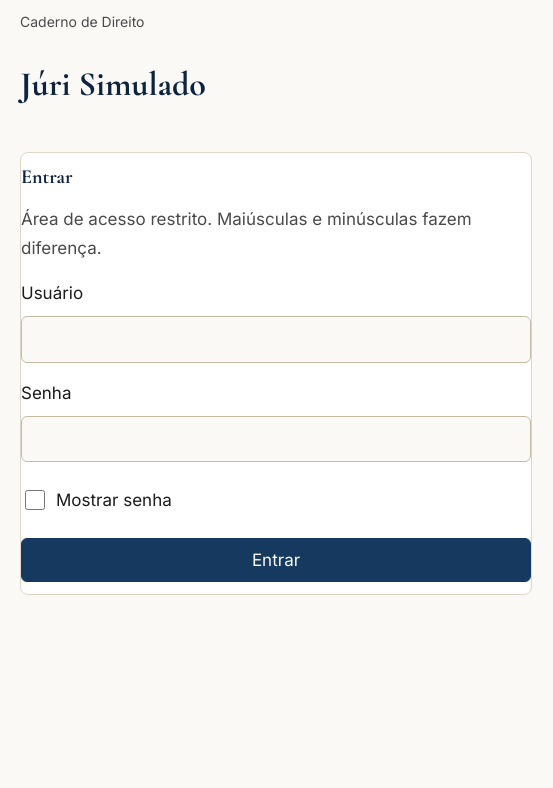
it: AreaJuri: entrada › provisória leva à troca obrigatória, sem o campo de usuário
Step 1. Type "admin" into the field named "usuario" → (276, 339), box [21,316,531,363]
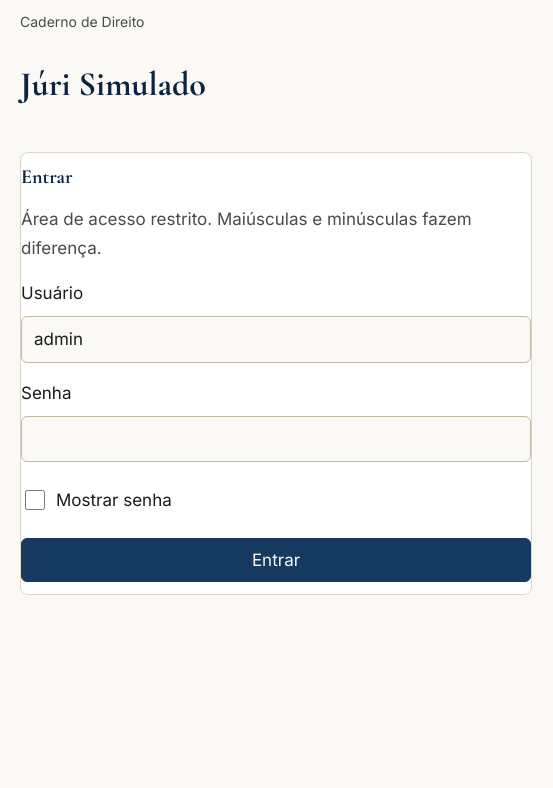
Step 2. Type "provisoria-sintetica-de-teste" into the password field named "senha" → (276, 439), box [21,416,531,462]
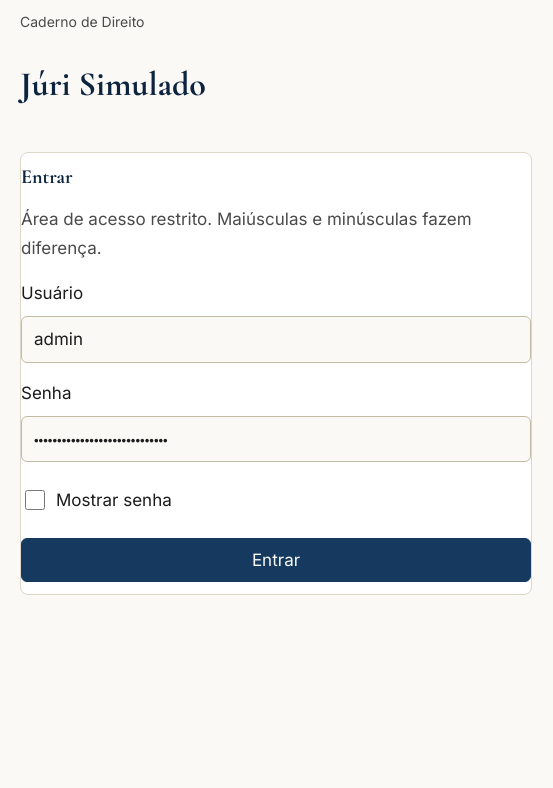
Step 3. Submit the form, box [20,152,532,595]
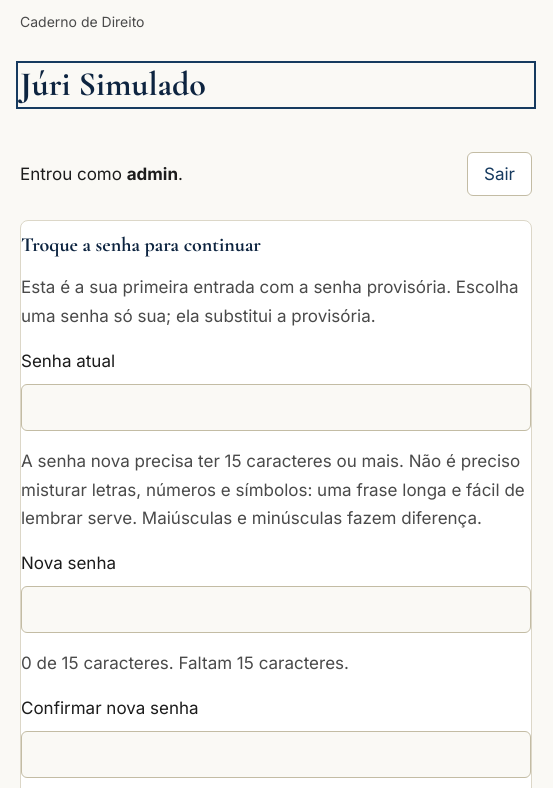
Now the heading "Troque a senha para continuar" is shown, box [21,233,261,257]
Now the password field named "senhaNova" is shown, box [21,586,531,633]
